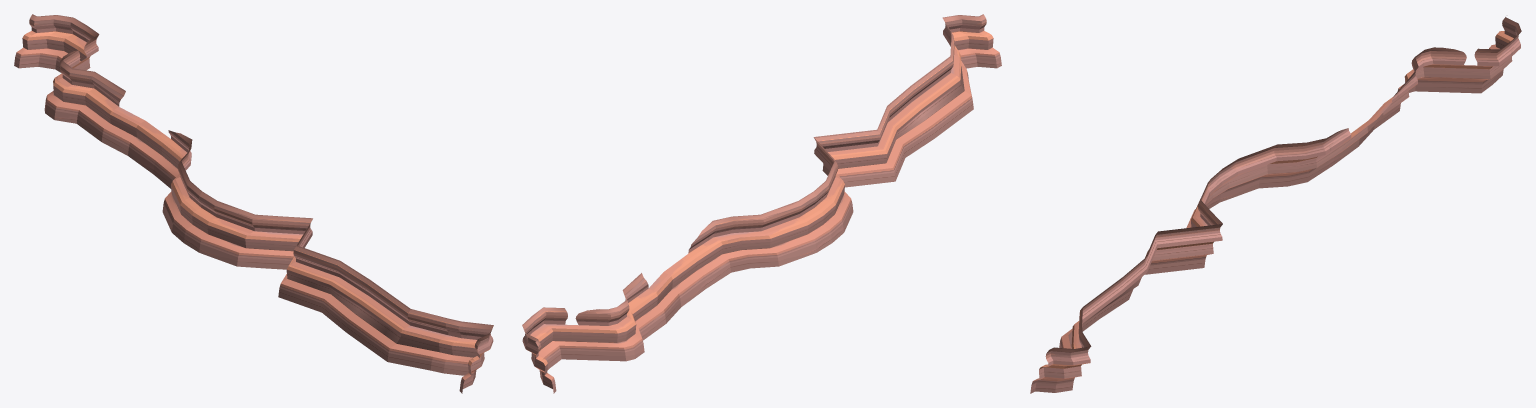
Rendered from Mesh_Adventure_Canyon_Variant_Terrain_06.fbx.
3 views of the same model, side by side, from view 1: azimuth 30°, elevation 25°; view 2: azimuth 150°, elevation 25°; view 3: azimuth 330°, elevation 25° (orthographic). The views are drawn at different scales.
Parts seen in each view (by area): view 1: Mesh_Adventure_Canyon_Variant_Terrain_06; view 2: Mesh_Adventure_Canyon_Variant_Terrain_06; view 3: Mesh_Adventure_Canyon_Variant_Terrain_06.
Boxes of the visible parts, x1,y1,x2,y2 form: Mesh_Adventure_Canyon_Variant_Terrain_06: (14,14,493,393); Mesh_Adventure_Canyon_Variant_Terrain_06: (522,14,1001,393); Mesh_Adventure_Canyon_Variant_Terrain_06: (1030,17,1521,393).
Size of the model in its own units: 923 by 409 by 6998.
